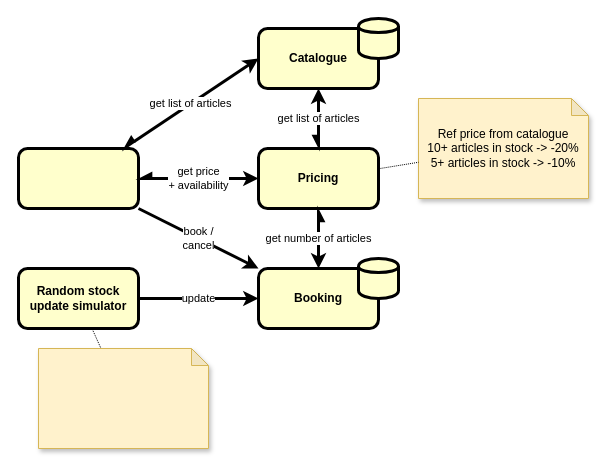
Some shapes in this 612 by 473 pixel diagram are drawn without their labels. The shapes that lost their labels are listed below. From the top down, each one's centre as x and y in pixels, then its label:
At [78,178]: "Client".
At [124,400]: "Scheduled job: update stocks randomly for one random article every 10 seconds".
